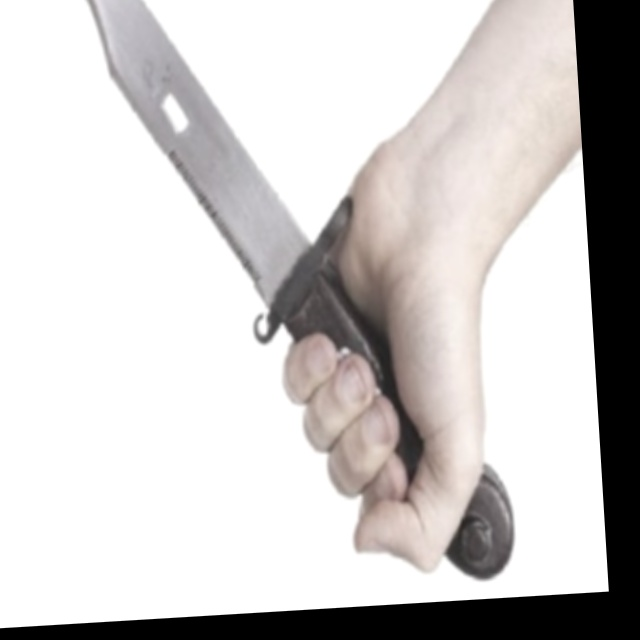Sharp-Object: (58, 0, 518, 606)
